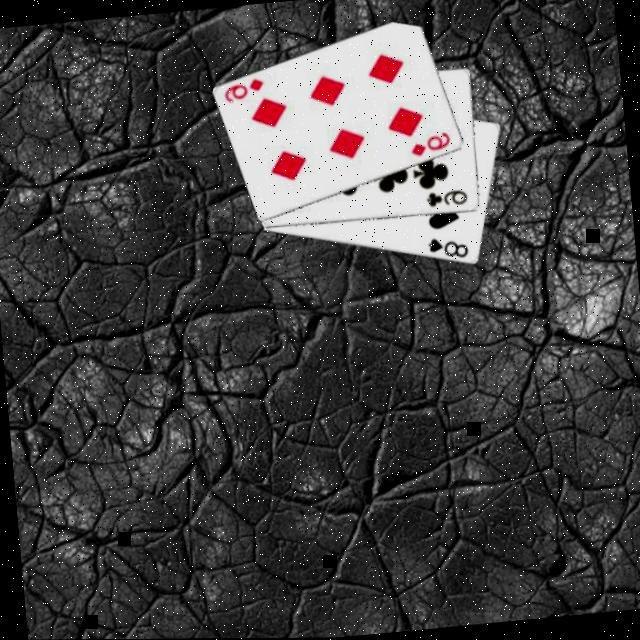6D: (406, 126, 454, 158), (220, 73, 269, 104)
8S: (424, 230, 472, 262)
9C: (424, 184, 472, 210)
